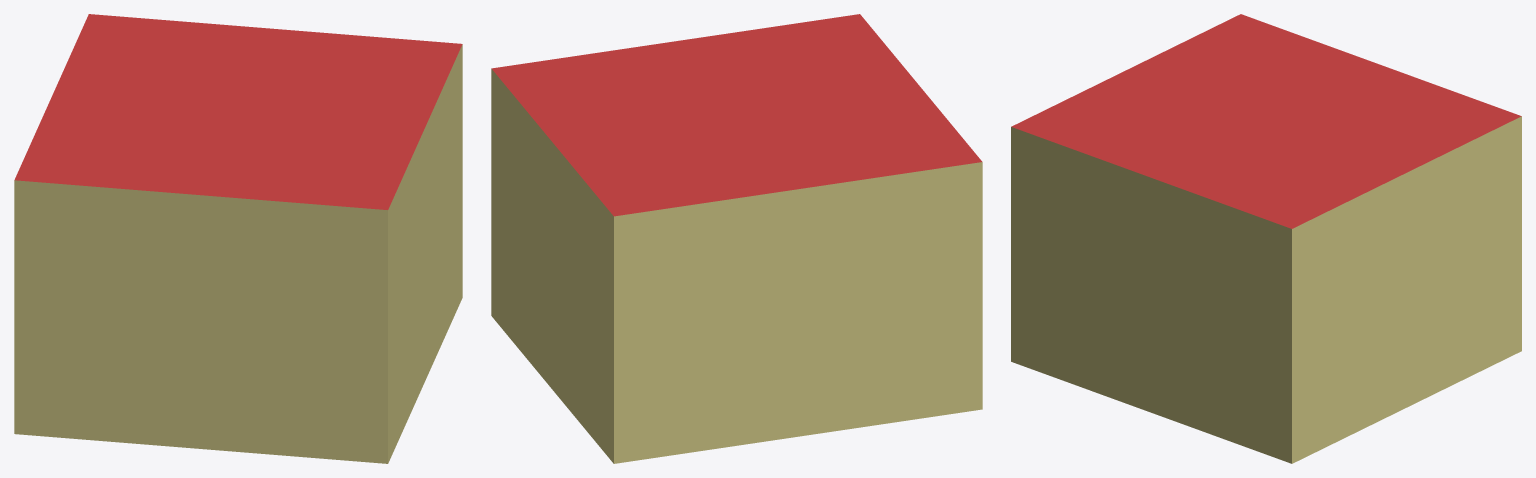
3 views of the same model, side by side, from view 1: azimuth 30°, elevation 25°; view 2: azimuth 150°, elevation 25°; view 3: azimuth 270°, elevation 25° (orthographic). The views are drawn at different scales.
Size of the model in its own units: 10.34 by 10.38 by 5.27.
